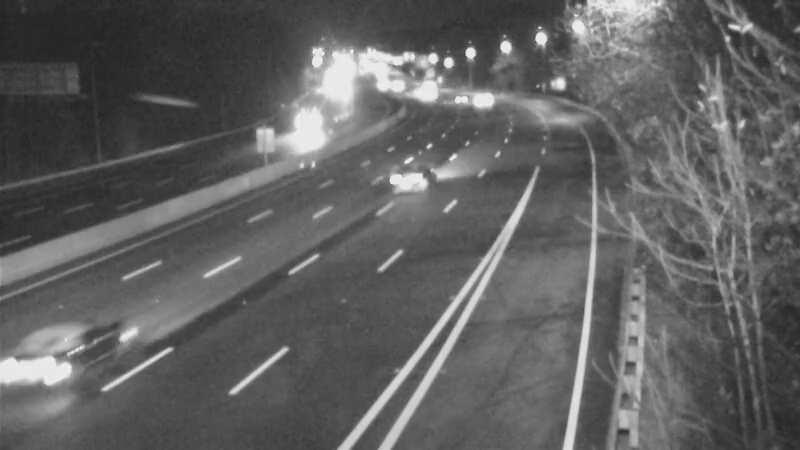vehicle: (1, 311, 104, 421), (369, 137, 449, 217), (403, 66, 453, 116), (457, 78, 507, 128), (274, 106, 324, 156)
